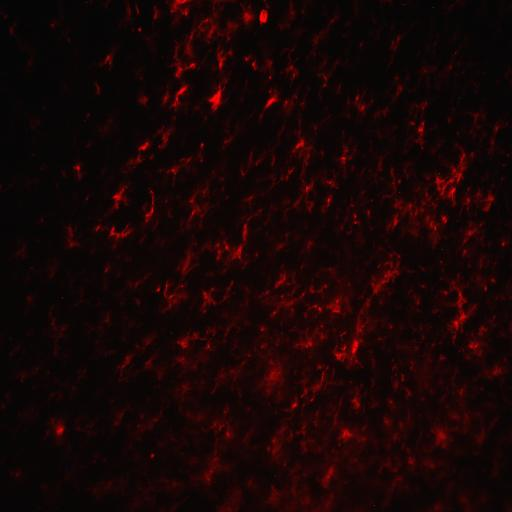microglia: (382, 191, 444, 246), (277, 124, 324, 177), (203, 222, 248, 272), (221, 280, 252, 350), (440, 277, 474, 337), (238, 139, 278, 184), (378, 412, 416, 459), (341, 188, 373, 241), (212, 356, 250, 397), (190, 453, 233, 489), (253, 357, 287, 402), (301, 364, 336, 407), (368, 251, 401, 296), (307, 15, 339, 57), (289, 174, 319, 218), (183, 182, 210, 230), (198, 280, 236, 314), (291, 324, 330, 357), (115, 269, 154, 302), (258, 291, 305, 318), (45, 303, 68, 358), (332, 131, 358, 178), (461, 321, 493, 359), (382, 25, 412, 64), (433, 162, 462, 201), (266, 425, 292, 468), (428, 418, 458, 455), (332, 421, 370, 450), (95, 220, 134, 248), (382, 164, 415, 197), (167, 42, 197, 78), (160, 156, 192, 188), (332, 331, 363, 364), (343, 88, 373, 120), (456, 220, 486, 252), (89, 310, 113, 349), (254, 331, 288, 358), (360, 151, 385, 187), (353, 298, 376, 336), (206, 77, 229, 113), (222, 115, 246, 149), (319, 453, 342, 488), (392, 363, 412, 403), (240, 192, 264, 225), (126, 140, 152, 170), (177, 241, 198, 278), (163, 280, 188, 310), (266, 232, 290, 262), (172, 355, 208, 374), (340, 384, 364, 412), (175, 330, 208, 350), (281, 48, 301, 81), (8, 234, 28, 266), (258, 88, 280, 117), (218, 488, 242, 512), (474, 188, 497, 212), (170, 83, 189, 112), (297, 234, 319, 259), (47, 415, 67, 442), (116, 352, 134, 380), (408, 98, 426, 126), (198, 17, 218, 42), (278, 395, 298, 419), (112, 184, 130, 210), (215, 46, 233, 72), (212, 0, 235, 20), (310, 494, 335, 512), (217, 22, 239, 42), (137, 414, 159, 434), (172, 0, 190, 24), (143, 188, 155, 223), (157, 124, 173, 150), (308, 280, 330, 298), (239, 2, 255, 26), (202, 418, 226, 434), (325, 296, 344, 316), (265, 485, 283, 506), (320, 190, 334, 216), (174, 382, 192, 402), (66, 225, 80, 250), (184, 26, 194, 60), (414, 122, 426, 150), (282, 94, 298, 114), (272, 272, 288, 291), (321, 176, 341, 191), (198, 338, 214, 356), (224, 422, 236, 444), (73, 162, 85, 182), (184, 410, 204, 422), (261, 60, 274, 78), (256, 318, 269, 336), (382, 412, 392, 434), (317, 73, 331, 88), (103, 51, 115, 68), (257, 9, 268, 27), (110, 412, 124, 426), (392, 85, 404, 101), (161, 86, 170, 106), (288, 0, 296, 20), (145, 354, 155, 369), (146, 449, 156, 462), (143, 335, 154, 346), (153, 7, 160, 20), (139, 95, 148, 105), (242, 54, 252, 62), (252, 59, 260, 69), (126, 4, 131, 17), (95, 84, 100, 95), (136, 27, 143, 34), (136, 4, 140, 15), (200, 142, 204, 150), (95, 225, 100, 231), (318, 306, 322, 312)
